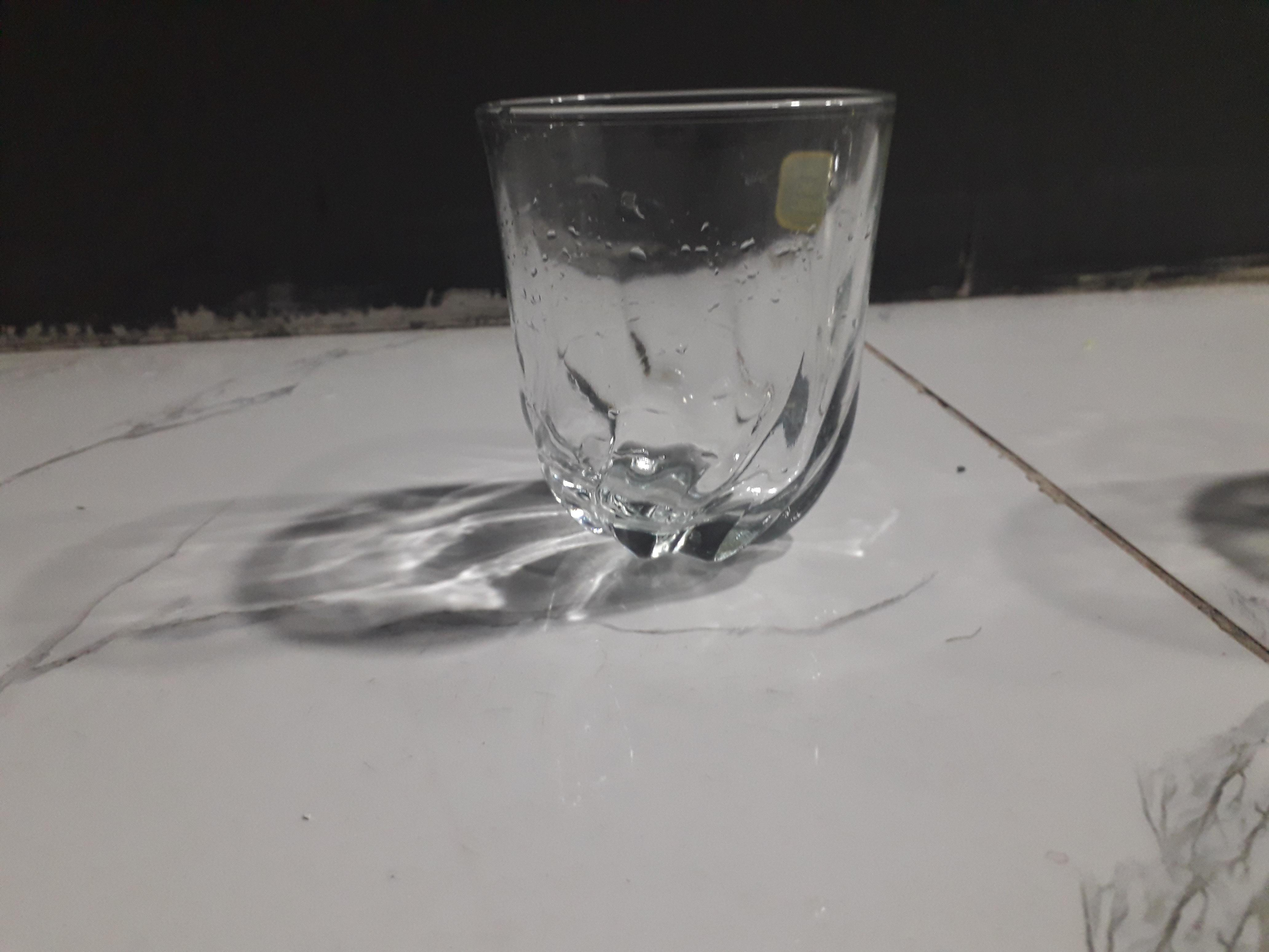glass-normal: (482, 83, 888, 565)
